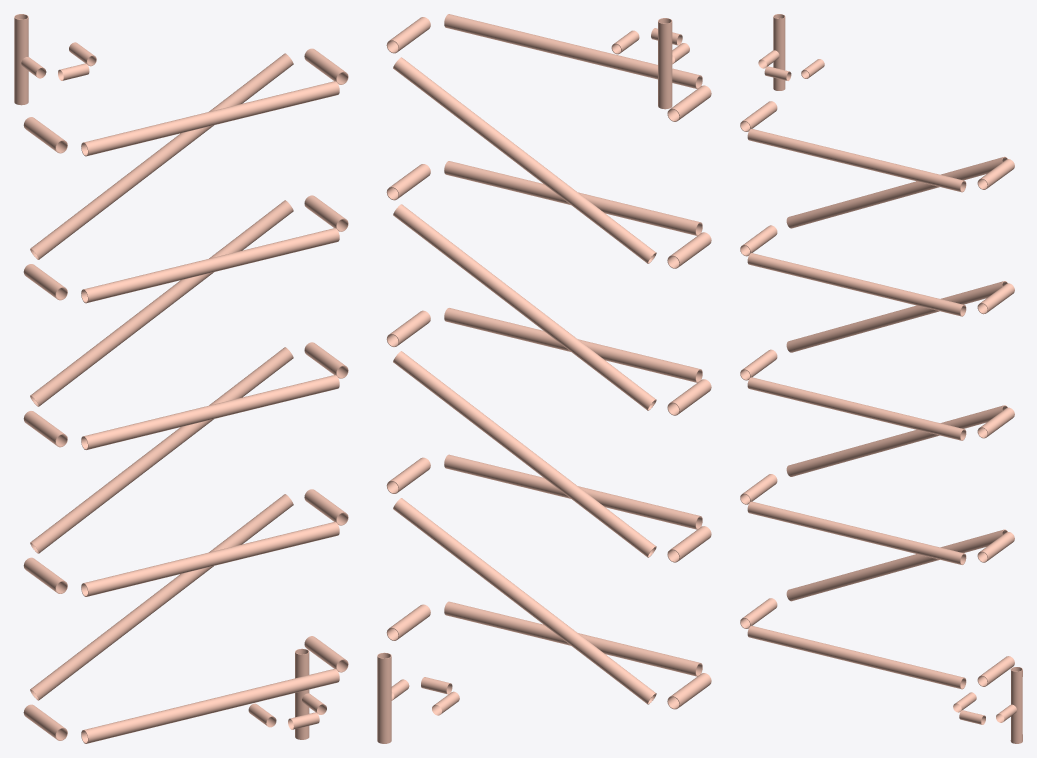
3 views of the same model, side by side, from view 1: azimuth 30°, elevation 25°; view 2: azimuth 150°, elevation 25°; view 3: azimuth 330°, elevation 25° (orthographic). The views are drawn at different scales.
Parts seen in each view (by area): view 1: Assemble.39; view 2: Assemble.39; view 3: Assemble.39.
Part boxes in pixels (left/top/right/bottom): Assemble.39: left=14, top=14, right=348, bottom=743; Assemble.39: left=377, top=14, right=711, bottom=743; Assemble.39: left=740, top=14, right=1022, bottom=743.
Bounding box in the file's own units: 0.522 × 1.34 × 0.172.
